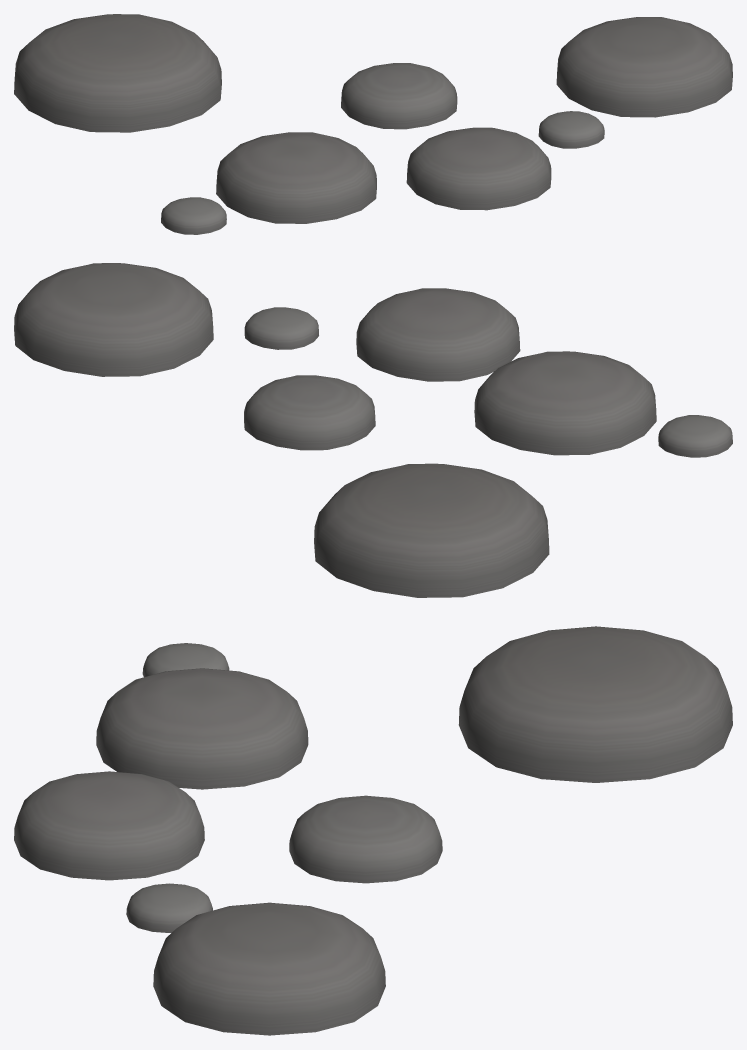
Rendered from Pebles_1_1.fbx.
3 renders of one model, top to bottom at view 1: azimuth 30°, elevation 25°; view 2: azimuth 150°, elevation 25°; view 3: azimuth 270°, elevation 25°, orthographic. The views are drawn at different scales.
Visible parts, largest first — view 1: Pebles_1_1; view 2: Pebles_1_1; view 3: Pebles_1_1.
Part boxes in pixels (bbox=[...]): Pebles_1_1: bbox=[14, 14, 732, 234]; Pebles_1_1: bbox=[14, 263, 732, 597]; Pebles_1_1: bbox=[14, 626, 732, 1035].
Size of the model in its own units: 186 by 15.52 by 149.
